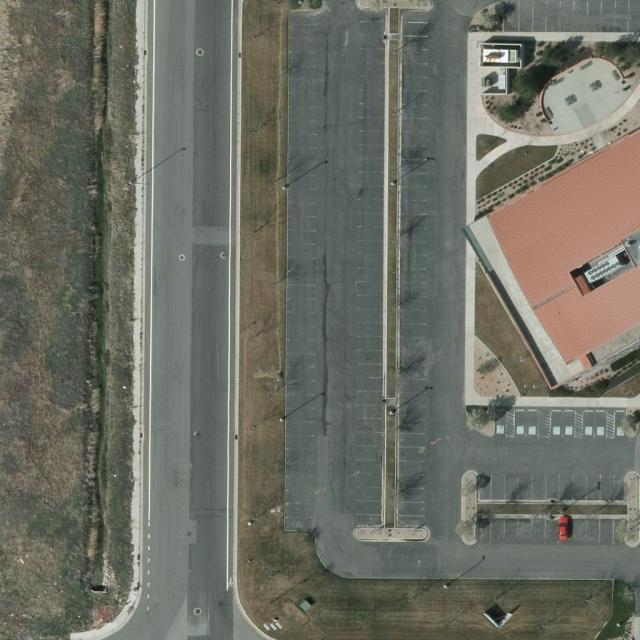vehicle: (559, 516, 569, 540)
